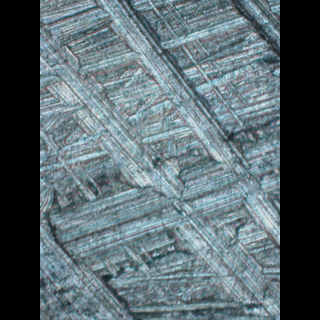d: (39, 8, 275, 315), (40, 212, 141, 319)
